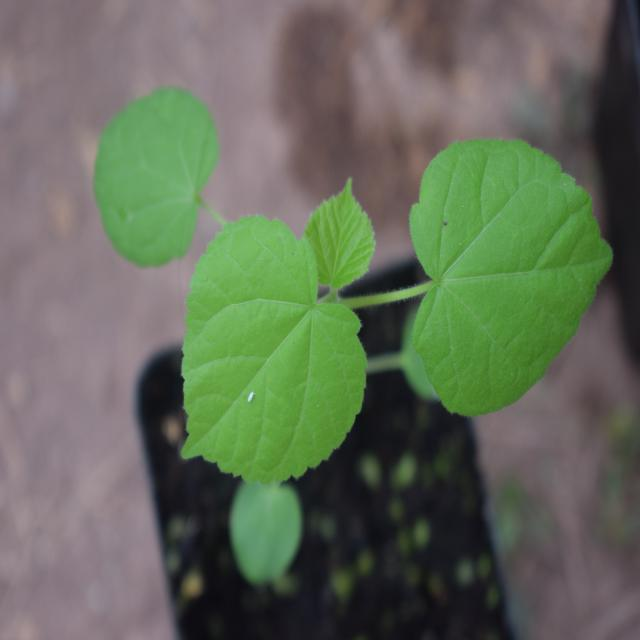abutilon theophrasti: (136, 68, 590, 512)
